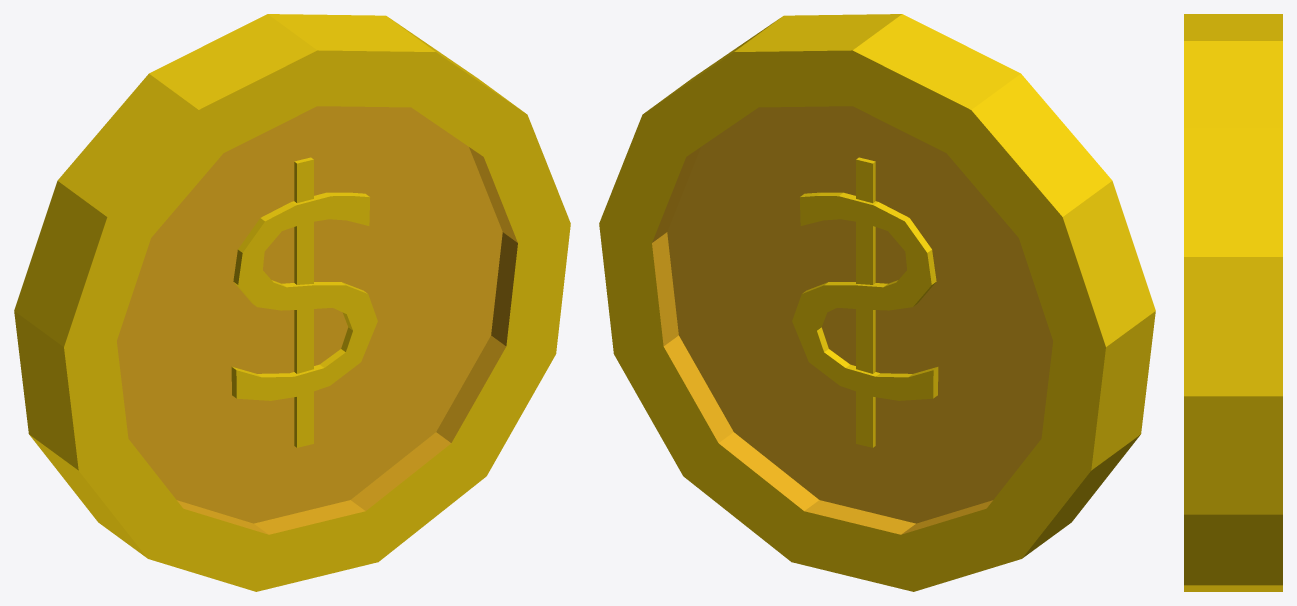
Rendered from Coin.fbx.
The picture shows the model from 3 angles, left to right: view 1: azimuth 30°, elevation 25°; view 2: azimuth 150°, elevation 25°; view 3: azimuth 270°, elevation 25°; orthographic projection.
Parts seen in each view (by area): view 1: Cylinder; view 2: Cylinder; view 3: Cylinder.
Part boxes in pixels (x1,y1,x2,y2): Cylinder: (14, 14, 570, 591); Cylinder: (599, 14, 1155, 591); Cylinder: (1184, 14, 1282, 591).
Bounding box in the file's own units: 324 × 322 × 55.19.
